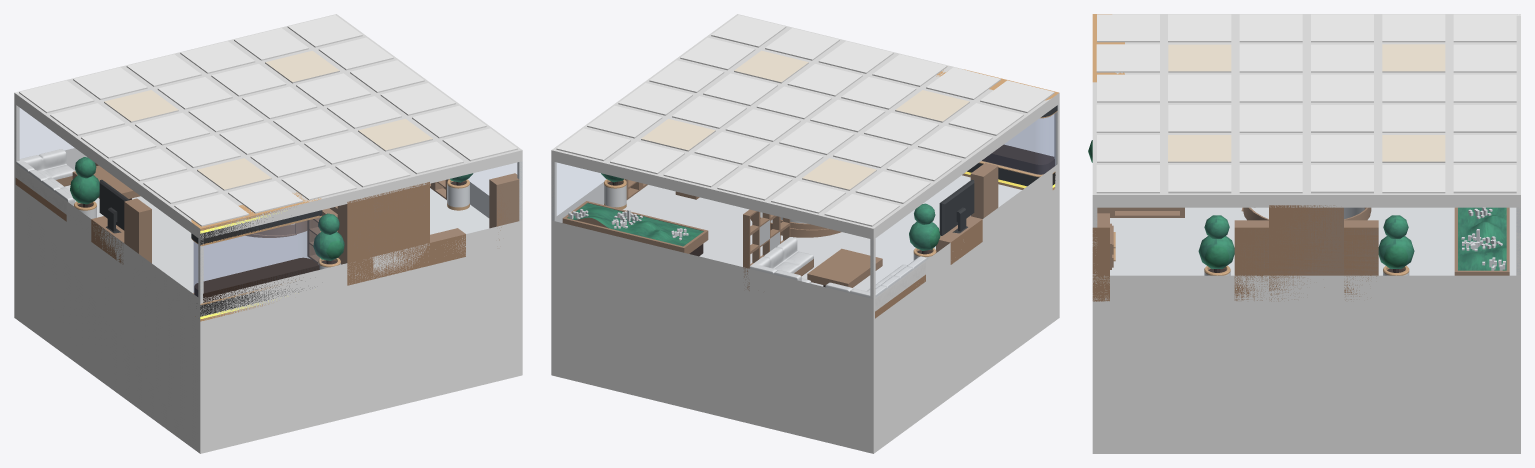
The model's file is AppGameRoom (2).fbx.
3 renders of one model, left to right at view 1: azimuth 30°, elevation 25°; view 2: azimuth 150°, elevation 25°; view 3: azimuth 270°, elevation 25°, orthographic. The views are drawn at different scales.
Parts seen in each view (by area): view 1: Plane, Cube, Cube.002, Circle.006, Circle.005, Cube.013, Cube.007, Circle.004, Cube.003, Cube.019, Icosphere.003, Cube.008 (+6 smaller); view 2: Plane, Cube, Cube.016, Circle.006, Circle.005, Cube.013, Cube.014, Cube.015, Cube.012, Plane.001, Cube.019, Cube.018 (+2 smaller); view 3: Plane, Cube, Cube.009, Cube.016, Cube.010, Cube.011, Cube.003, Icosphere.004, Icosphere.005, Cube.005, Circle.004.
Boxes of the visible parts, x1,y1,x2,y2 form: Plane: (14,14,522,321); Cube: (14,170,522,453); Cube.002: (373,182,429,279); Circle.006: (194,218,319,296); Circle.005: (193,257,319,321); Cube.013: (15,149,76,221); Cube.007: (340,196,373,285); Circle.004: (191,192,322,245); Cube.003: (489,173,519,240); Cube.019: (124,198,151,263); Icosphere.003: (313,213,344,264); Cube.008: (430,228,465,265); Plane: (551,14,1059,321); Cube: (551,175,1059,453); Cube.016: (562,201,708,256); Circle.006: (982,114,1054,174); Circle.005: (962,144,1055,189); Cube.013: (825,256,926,318); Cube.014: (743,209,790,290); Cube.015: (807,248,882,287); Cube.012: (749,237,813,283); Plane.001: (939,179,974,235); Cube.019: (970,163,998,218); Cube.018: (936,216,982,264); Plane: (1092,14,1520,301); Cube: (1092,207,1520,453); Cube.009: (1269,205,1343,301); Cube.016: (1454,207,1509,275); Cube.010: (1234,220,1268,300); Cube.011: (1344,220,1378,300); Cube.003: (1092,213,1109,301); Icosphere.004: (1198,215,1234,272); Icosphere.005: (1378,215,1414,272); Cube.005: (1110,207,1184,217); Circle.004: (1092,14,1124,82).
Bounding box in the file's own units: 3036 × 1996 × 3006.
18 materials, 2 textured.
